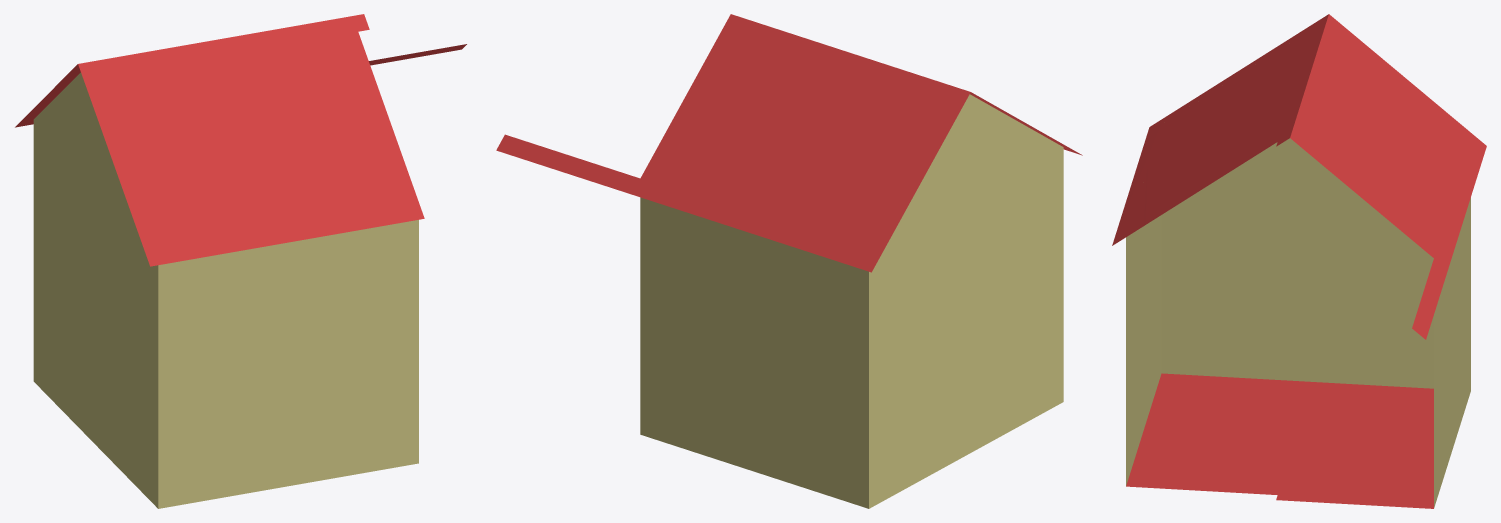
3 views of the same model, side by side, from view 1: azimuth 30°, elevation 25°; view 2: azimuth 150°, elevation 25°; view 3: azimuth 270°, elevation 25° (orthographic). The views are drawn at different scales.
Size of the model in its own units: 17.84 by 13.27 by 14.17.
